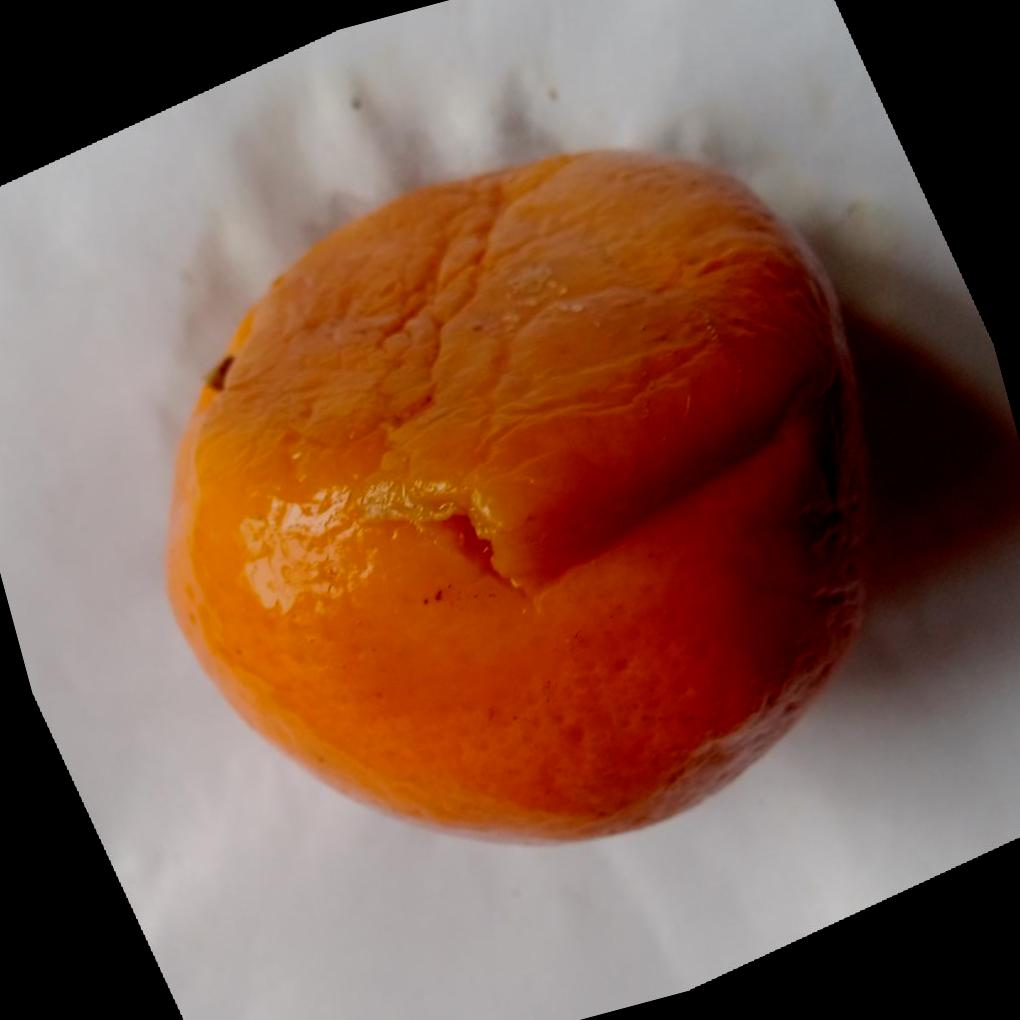FreshOrange: (161, 143, 873, 844)
